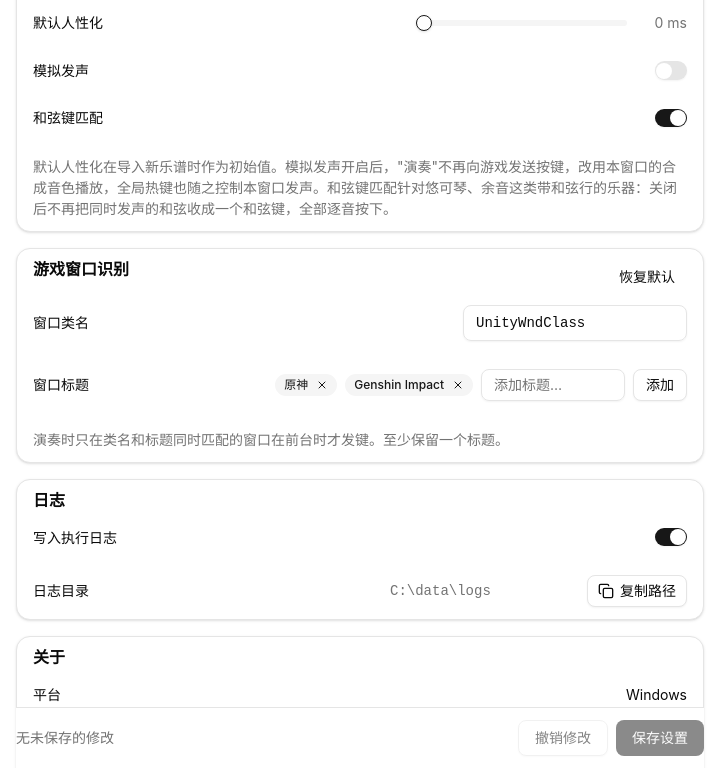
it: SettingsPage › 窗口标题可以添加，恢复默认后回到默认窗口规则
(page scrolled)
Type "云·原神" into the field named "新窗口标题" at (553, 384), box top-left (481, 368), bottom-right (625, 400)
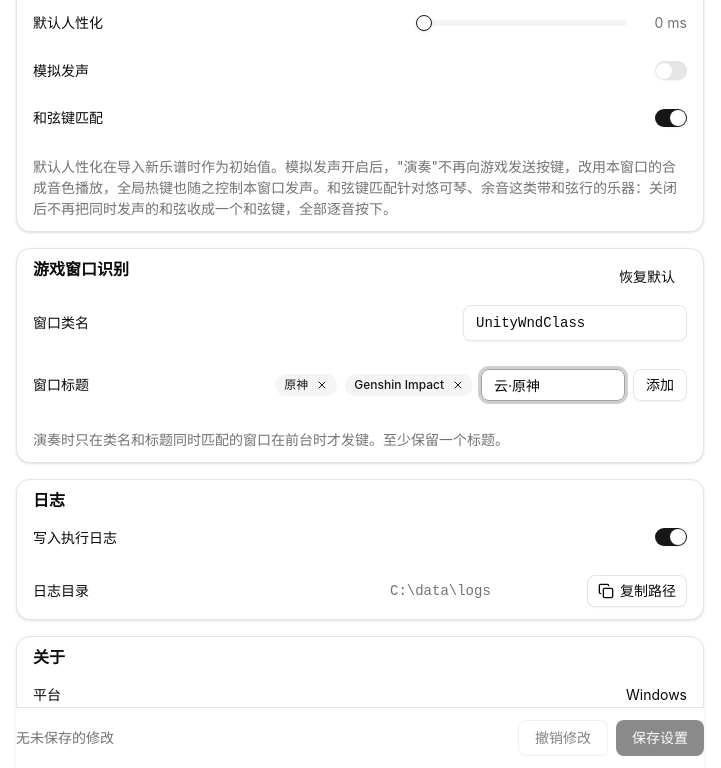
Click the button "添加" at (660, 384), box top-left (633, 368), bottom-right (687, 400)
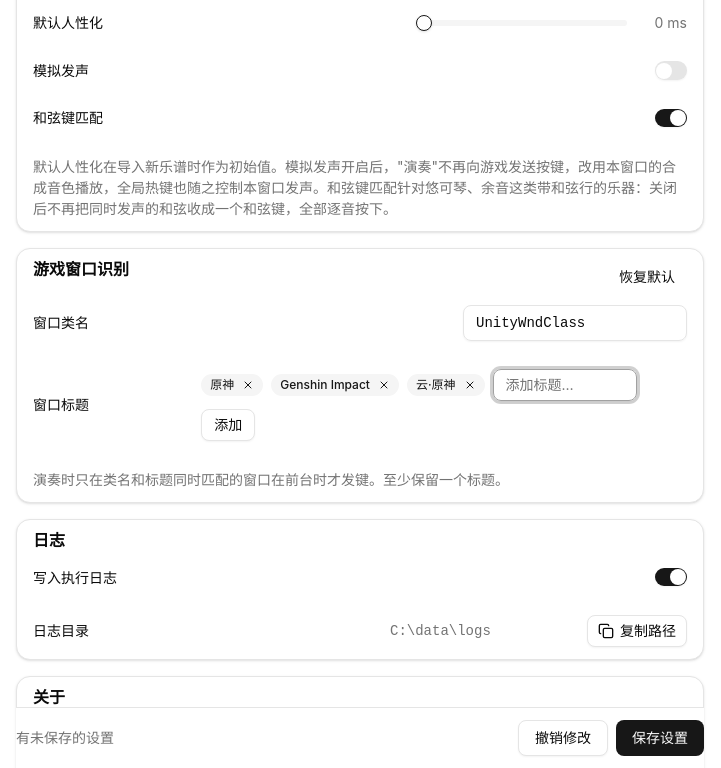
Result: the text "云·原神" is shown at top-left (407, 374), bottom-right (484, 396)
Type "X" into the field labelled "窗口类名" at (575, 322), box top-left (463, 304), bottom-right (687, 340)
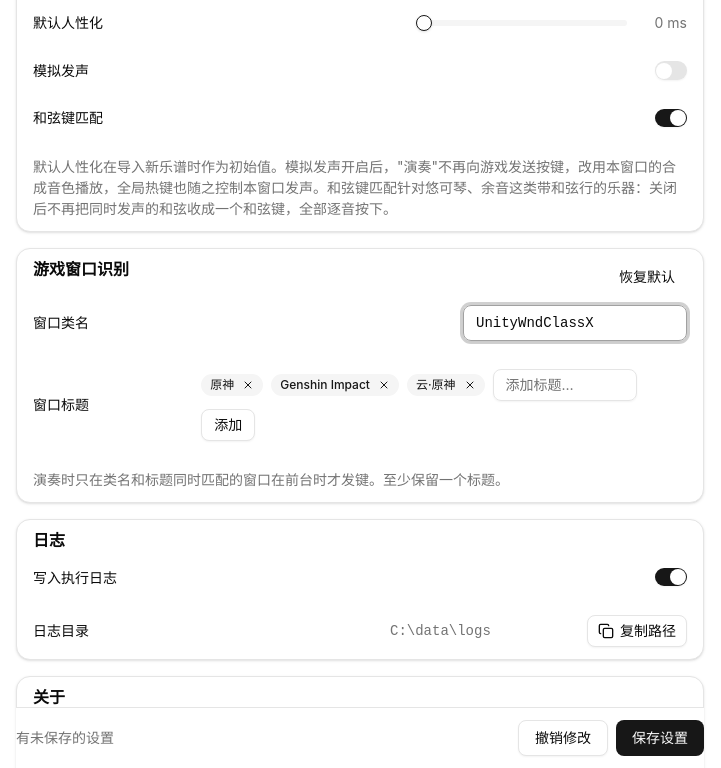
Click the button "恢复默认" at (647, 276), box top-left (607, 260), bottom-right (687, 292)
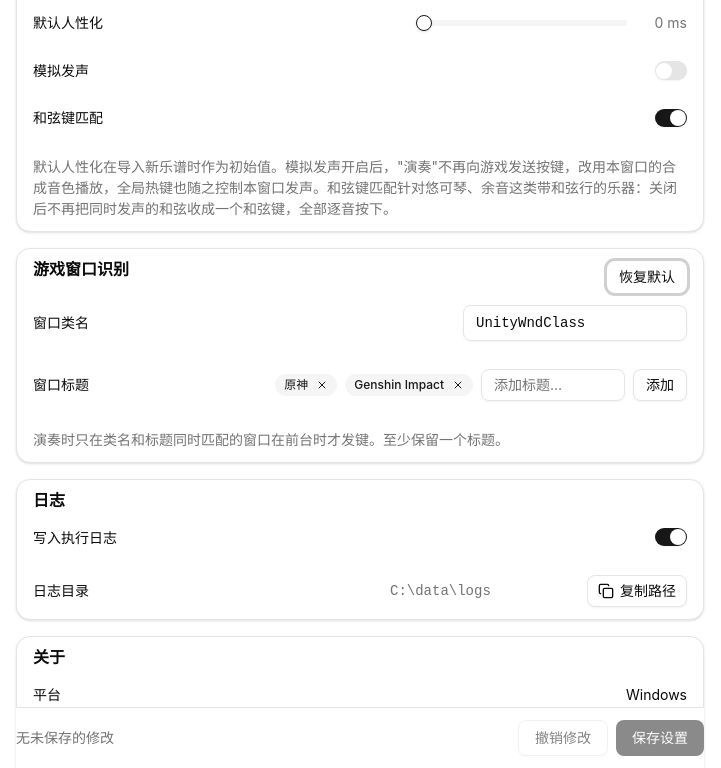
Result: the field labelled "窗口类名" holds "UnityWndClass" at top-left (463, 304), bottom-right (687, 340)
Result: the text "云·原神" is gone
